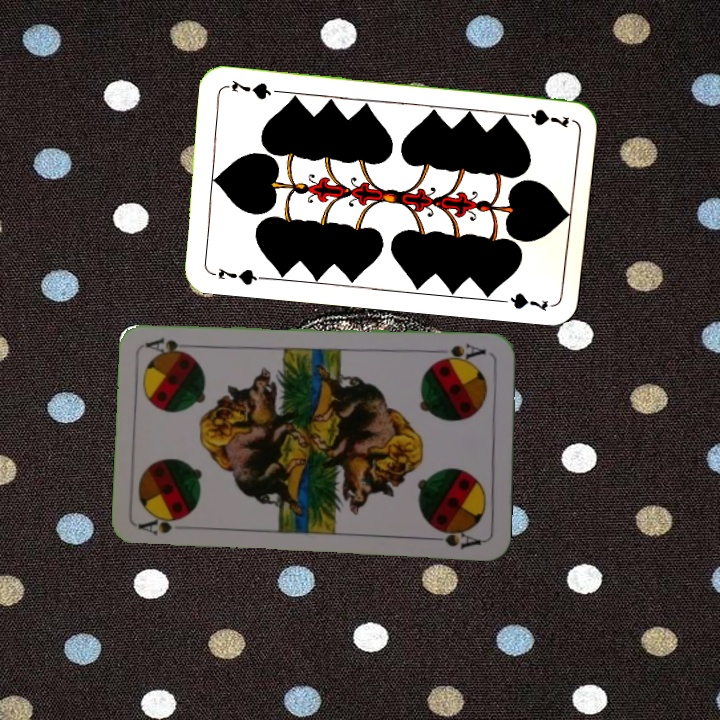G7: (512, 105, 572, 131), (206, 264, 266, 288)
SA: (433, 339, 488, 366), (136, 512, 189, 538)
